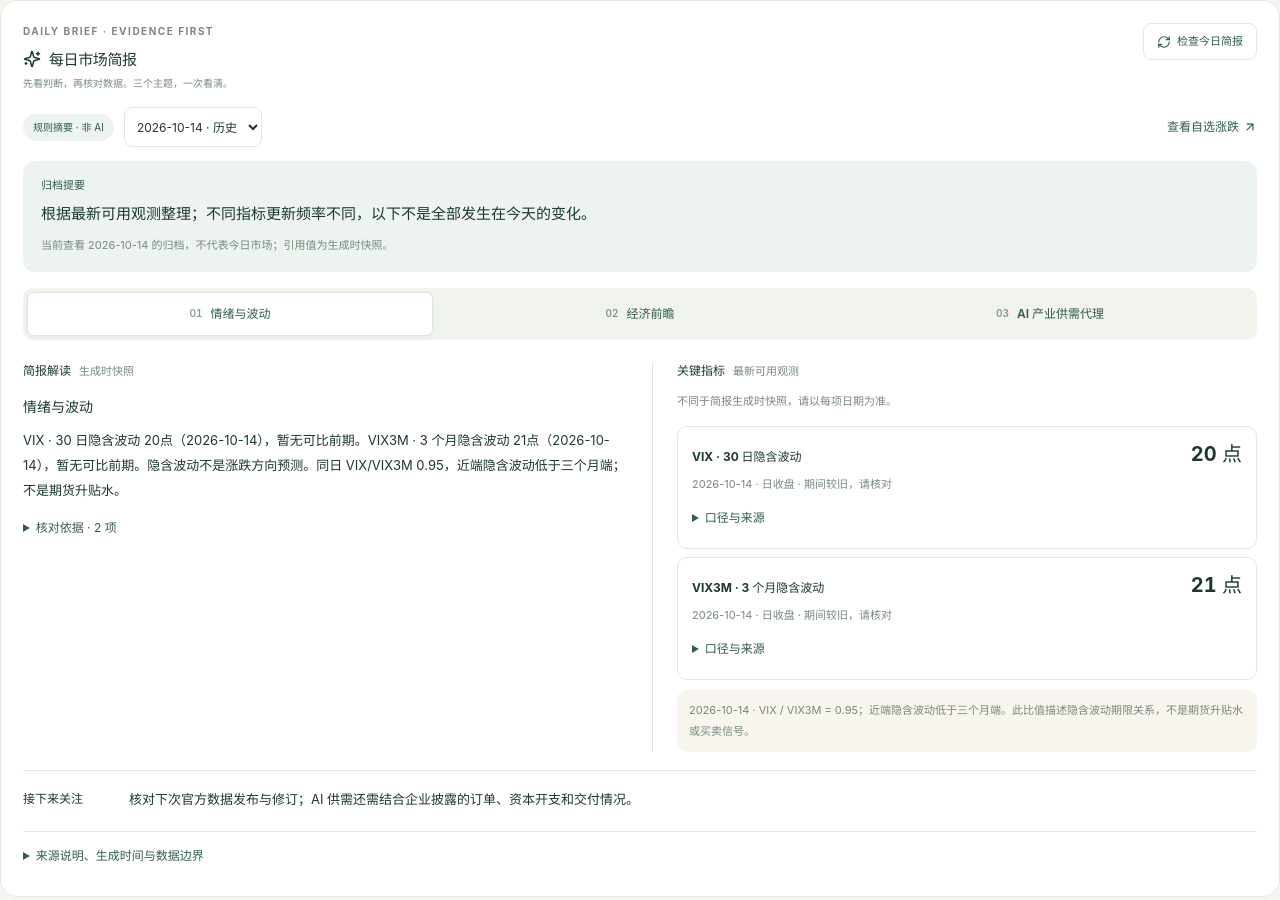
Test: 读取失败保留先前归档，不把错误冒充今日成功
The image size is (1280, 900).
Check: the text "当前查看 2026-10-14 的归档，不代表今日市场；引用值为生成时快照。" is shown, box [41,238,394,252]
Click the button "检查今日简报" at {"x": 1200, "y": 42}, box [1143,23,1257,60]
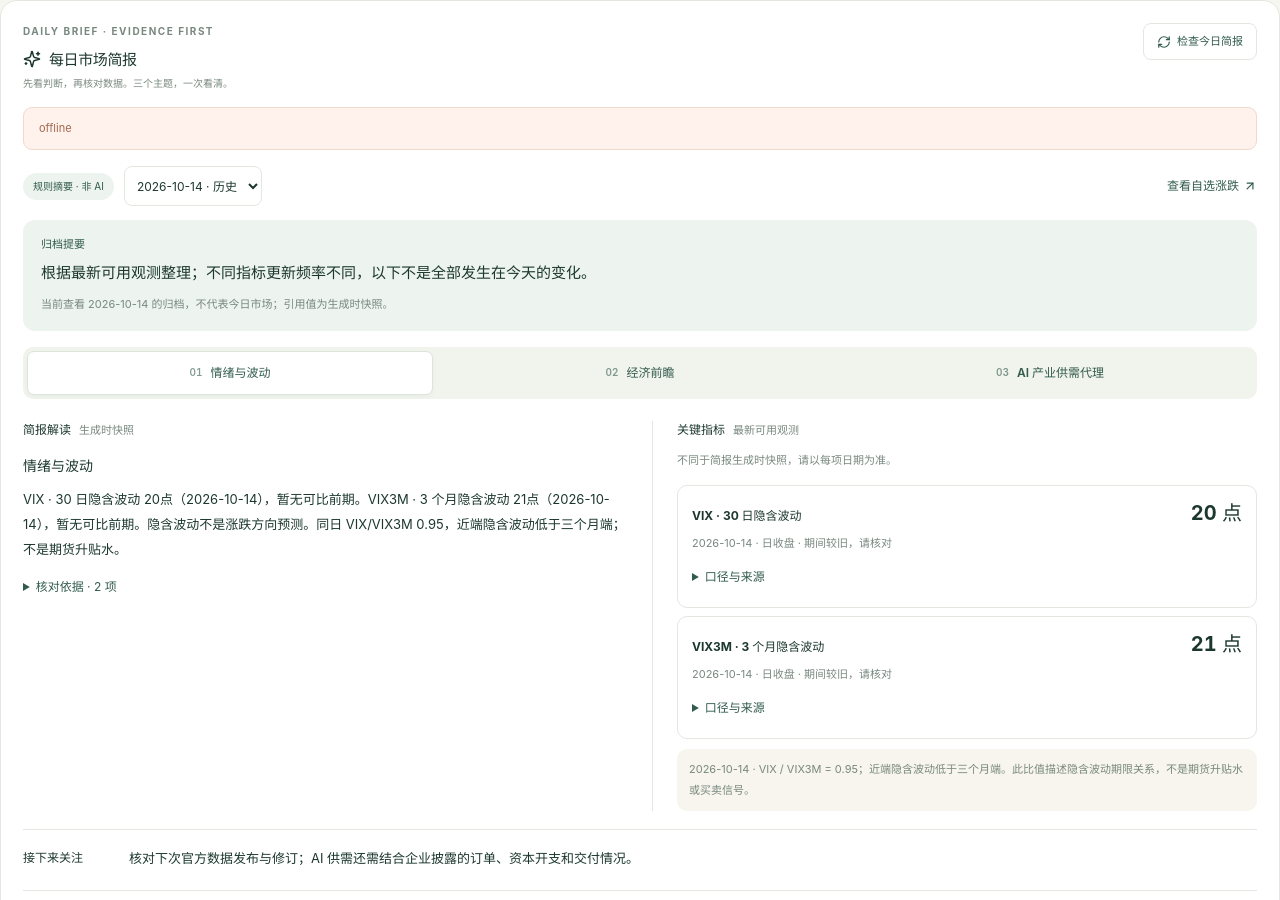
Check: the text "根据最新可用观测整理；不同指标更新频率不同，以下不是全部发生在今天的变化。" is shown, box [41,263,596,282]
Check: the message reads "offline", box [39,121,72,135]
